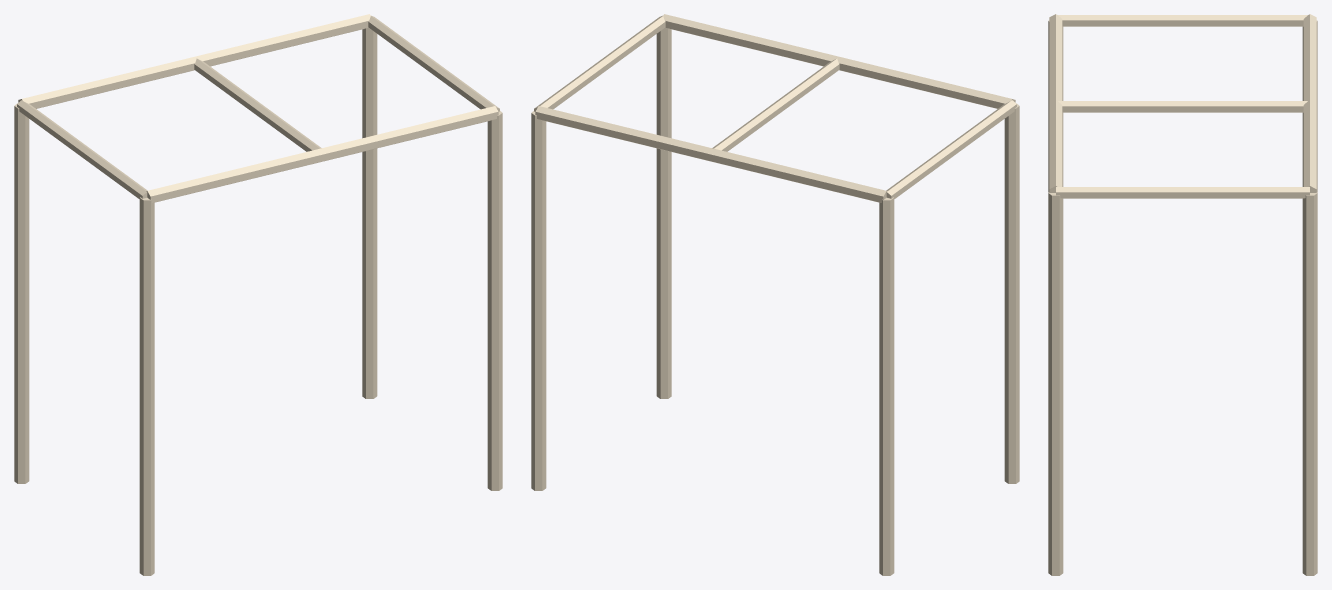
3 views of the same model, side by side, from view 1: azimuth 30°, elevation 25°; view 2: azimuth 150°, elevation 25°; view 3: azimuth 270°, elevation 25° (orthographic).
Visible parts, largest first — view 1: Post, Post.002, Post.001, Post.003, Roof rail, Roof rail.001, Roof brace, Roof brace.002, Roof brace.001; view 2: Post.001, Post.003, Post, Post.002, Roof rail.001, Roof rail, Roof brace, Roof brace.002, Roof brace.001; view 3: Post.002, Post.003, Roof brace.002, Roof brace, Roof brace.001, Roof rail, Roof rail.001, Post, Post.001.
Boxes of the visible parts, bbox=[...] form: Post: bbox=[139, 197, 154, 575]; Post.002: bbox=[487, 111, 502, 490]; Post.001: bbox=[14, 103, 29, 483]; Post.003: bbox=[362, 27, 377, 398]; Roof rail: bbox=[146, 106, 498, 202]; Roof rail.001: bbox=[18, 14, 370, 108]; Roof brace: bbox=[17, 100, 147, 198]; Roof brace.002: bbox=[368, 15, 499, 111]; Roof brace.001: bbox=[194, 58, 321, 151]; Post.001: bbox=[879, 197, 894, 575]; Post.003: bbox=[531, 111, 546, 490]; Post: bbox=[1004, 103, 1019, 483]; Post.002: bbox=[656, 27, 671, 398]; Roof rail.001: bbox=[535, 106, 887, 202]; Roof rail: bbox=[663, 14, 1015, 108]; Roof brace: bbox=[886, 100, 1016, 198]; Roof brace.002: bbox=[534, 15, 665, 111]; Roof brace.001: bbox=[712, 58, 839, 151]; Post.002: bbox=[1048, 192, 1063, 575]; Post.003: bbox=[1302, 192, 1317, 575]; Roof brace.002: bbox=[1056, 187, 1309, 198]; Roof brace: bbox=[1058, 15, 1307, 26]; Roof brace.001: bbox=[1058, 101, 1307, 112]; Roof rail: bbox=[1049, 14, 1062, 192]; Roof rail.001: bbox=[1303, 14, 1316, 192]; Post: bbox=[1048, 20, 1063, 192]; Post.001: bbox=[1302, 20, 1317, 192].
Size of the model in its own units: 165 by 168 by 106.
